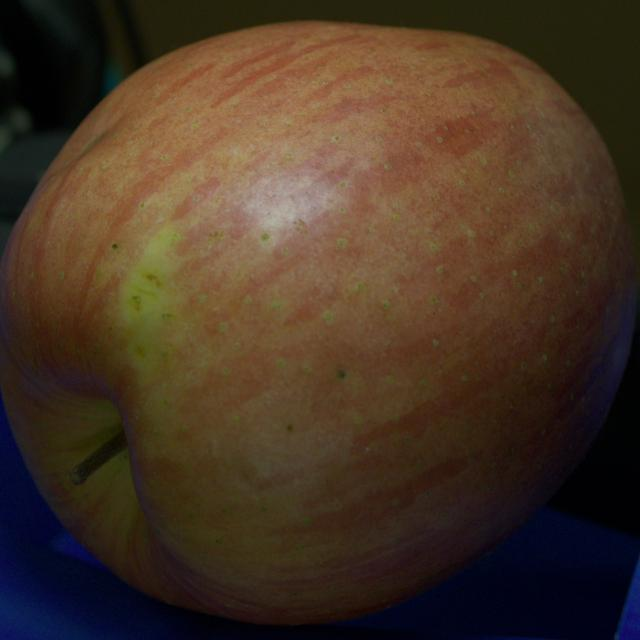apple: (0, 22, 636, 624)
bruise: (68, 128, 112, 170)
